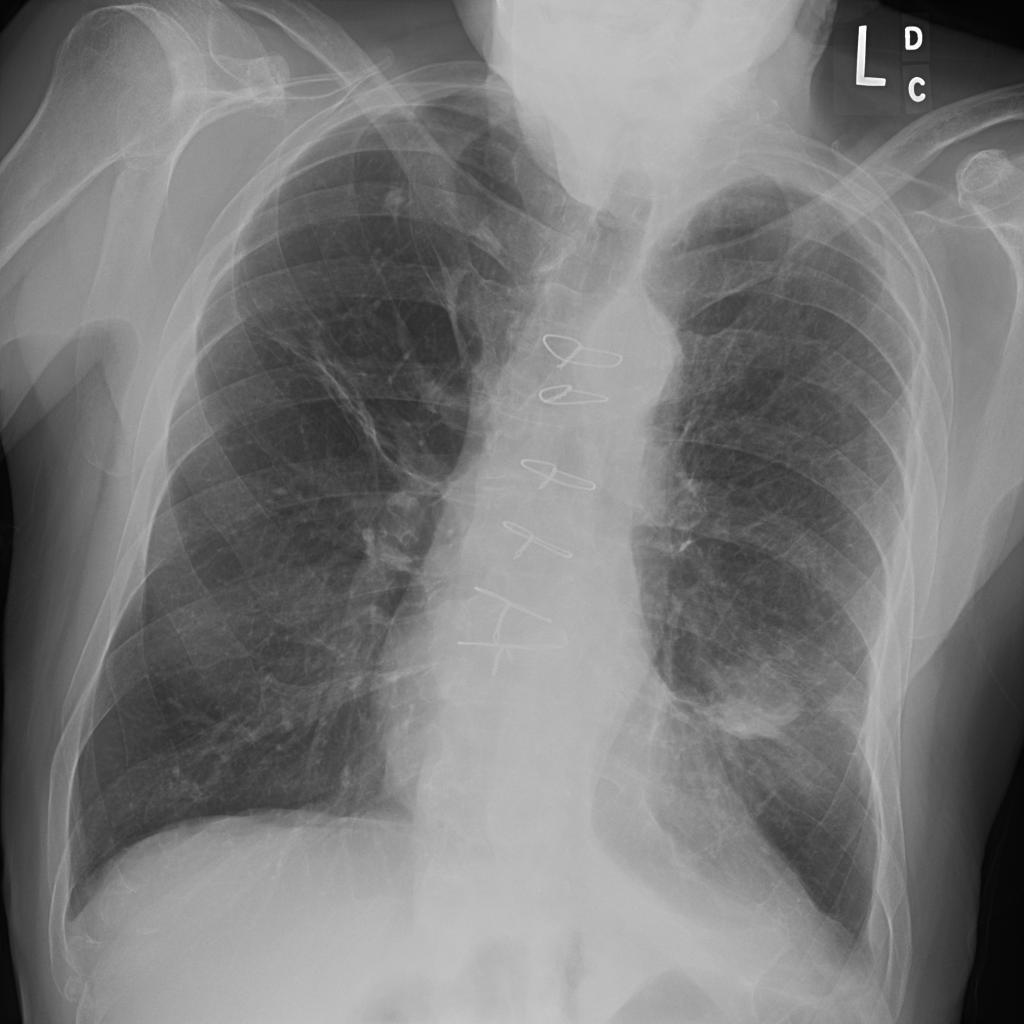Nodule: (179, 79, 224, 122)
